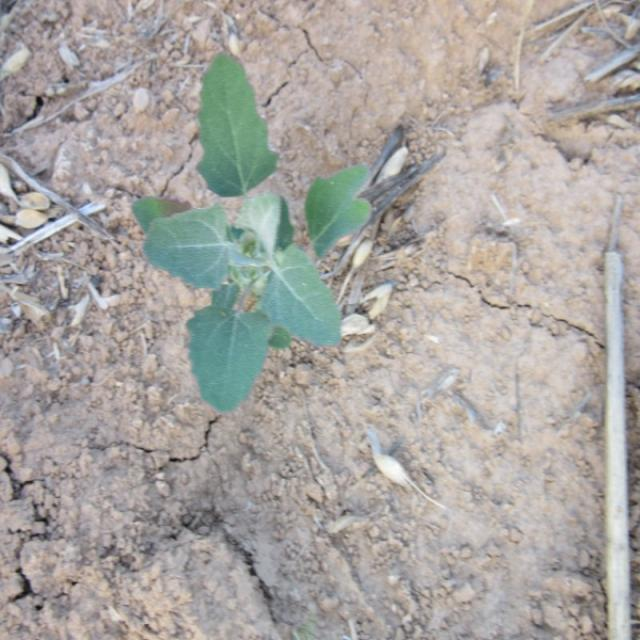ca: (134, 46, 371, 414)
